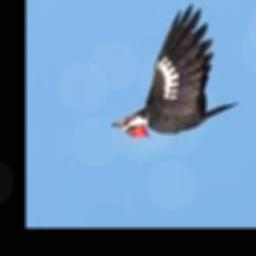Woodpecker: (113, 5, 239, 139)
